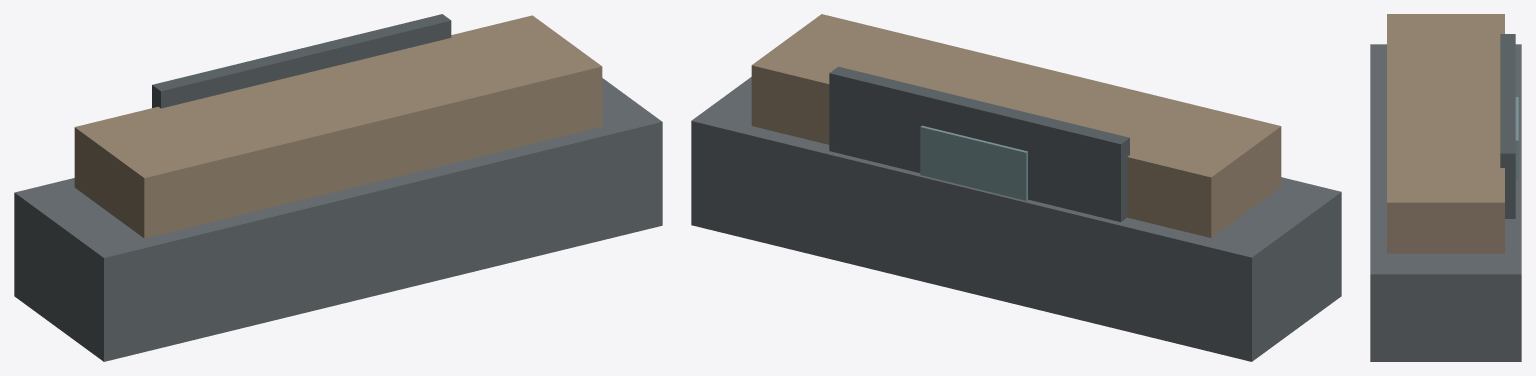
Rendered from iz3_prison_bench_02.glb.
3 renders of one model, left to right at view 1: azimuth 30°, elevation 25°; view 2: azimuth 150°, elevation 25°; view 3: azimuth 270°, elevation 25°, orthographic. The views are drawn at different scales.
Visible parts, largest first — view 1: base, cabinet, panel; view 2: base, cabinet, panel, display; view 3: cabinet, base, panel, display.
Part boxes in pixels (bbox=[...]): base: bbox=[14, 78, 662, 361]; cabinet: bbox=[74, 15, 602, 238]; panel: bbox=[152, 14, 451, 108]; base: bbox=[691, 77, 1341, 361]; cabinet: bbox=[751, 14, 1281, 237]; panel: bbox=[829, 66, 1129, 221]; display: bbox=[920, 125, 1027, 200]; cabinet: bbox=[1387, 14, 1504, 253]; base: bbox=[1370, 44, 1521, 361]; panel: bbox=[1500, 34, 1515, 218]; display: bbox=[1515, 97, 1518, 180].
Size of the model in its own units: 1.8 by 0.559 by 0.5.
